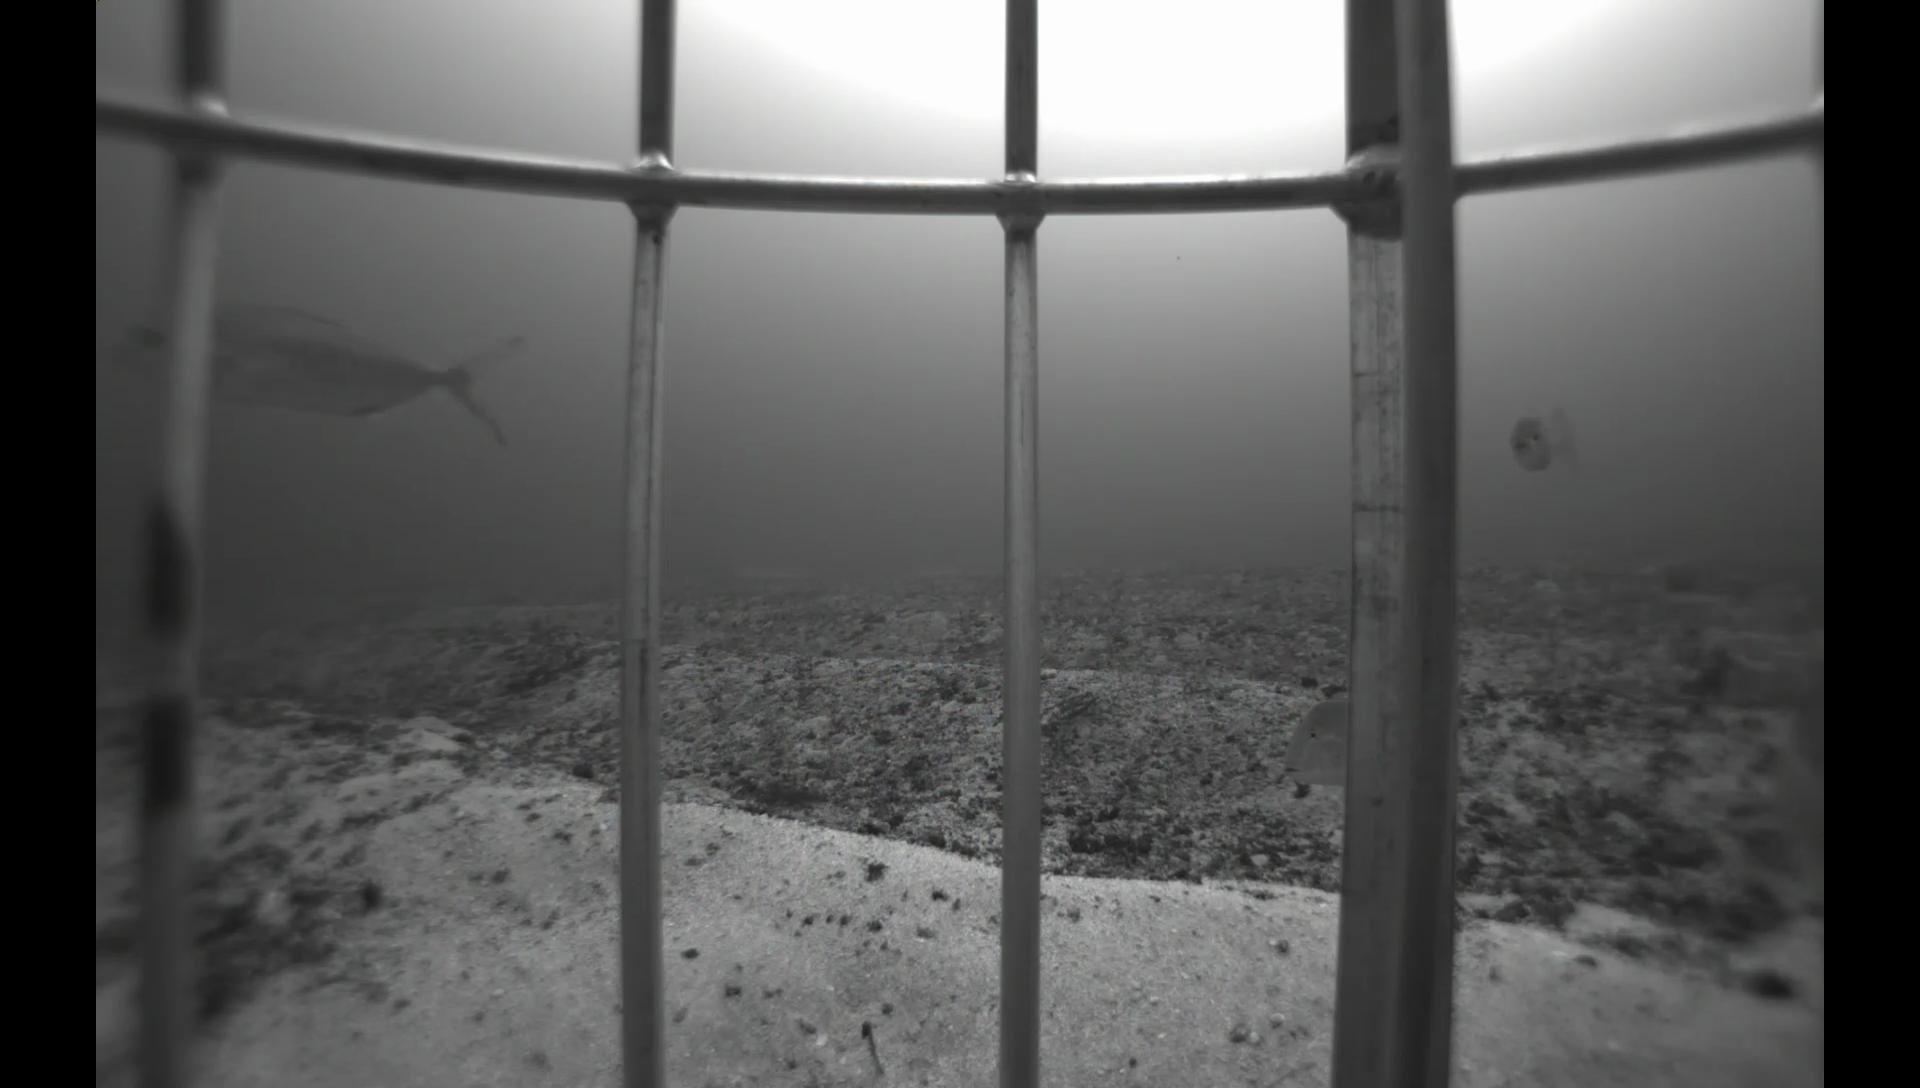CALAMUSPRORIDENS-170210605: (1273, 692, 1349, 790)
RHOMBOPLITESAURORUBENS-170152001: (1733, 662, 1822, 905), (1489, 396, 1592, 477)
SERIOLAFASCIATA-170113103: (109, 289, 542, 469)
